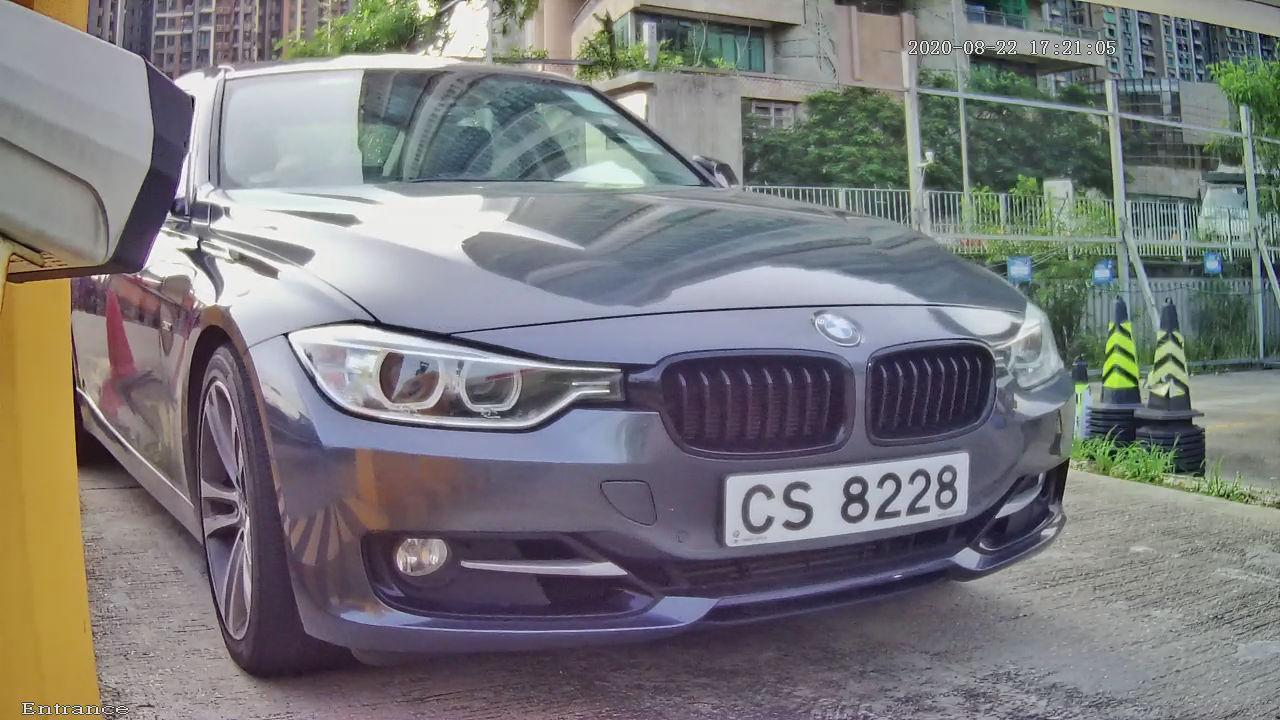Car: (23, 10, 1172, 698)
License Plate: (709, 444, 972, 550)
